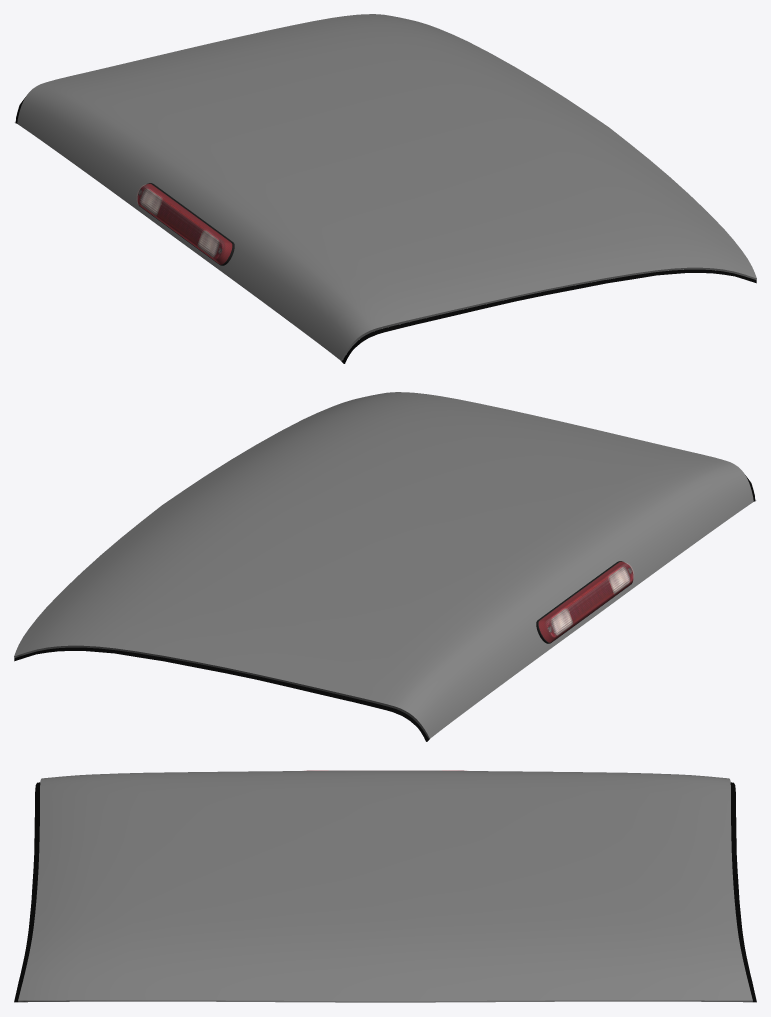
3 views of the same model, one above another, from view 1: azimuth 30°, elevation 25°; view 2: azimuth 150°, elevation 25°; view 3: azimuth 270°, elevation 25° (orthographic). The views are drawn at different scales.
Parts seen in each view (by area): view 1: U803_1A_341B_C_U803_1A_341B_C_1_DaS, U803_1A_341B_C_U803_1A_341B_C_2_N, U803_1A_341B_C_U803_1A_341B_C_4_DTaSI, U803_1A_341B_C_5_D_U803_1A_341B_C, U803_1A_341B_C_U803_1A_341B_C_1_DaS_E; view 2: U803_1A_341B_C_U803_1A_341B_C_1_DaS, U803_1A_341B_C_U803_1A_341B_C_2_N, U803_1A_341B_C_U803_1A_341B_C_4_DTaSI, U803_1A_341B_C_5_D_U803_1A_341B_C, U803_1A_341B_C_U803_1A_341B_C_1_DaS_E; view 3: U803_1A_341B_C_U803_1A_341B_C_1_DaS, U803_1A_341B_C_5_D_U803_1A_341B_C, U803_1A_341B_C_U803_1A_341B_C_1_DaS_E.
Boxes of the visible parts, box(x1,y1,x2,y2) form: U803_1A_341B_C_U803_1A_341B_C_1_DaS: box(17, 14, 756, 360); U803_1A_341B_C_U803_1A_341B_C_2_N: box(137, 183, 232, 264); U803_1A_341B_C_U803_1A_341B_C_4_DTaSI: box(137, 184, 231, 264); U803_1A_341B_C_5_D_U803_1A_341B_C: box(15, 97, 756, 363); U803_1A_341B_C_U803_1A_341B_C_1_DaS_E: box(341, 267, 756, 360); U803_1A_341B_C_U803_1A_341B_C_1_DaS: box(14, 392, 753, 738); U803_1A_341B_C_U803_1A_341B_C_2_N: box(538, 561, 633, 642); U803_1A_341B_C_U803_1A_341B_C_4_DTaSI: box(539, 562, 633, 642); U803_1A_341B_C_5_D_U803_1A_341B_C: box(14, 475, 755, 741); U803_1A_341B_C_U803_1A_341B_C_1_DaS_E: box(14, 645, 429, 738); U803_1A_341B_C_U803_1A_341B_C_1_DaS: box(18, 770, 752, 1001); U803_1A_341B_C_5_D_U803_1A_341B_C: box(14, 782, 756, 1002); U803_1A_341B_C_U803_1A_341B_C_1_DaS_E: box(18, 1000, 752, 1002).
Bounding box in the file's own units: 78.36 × 8.91 × 113.
